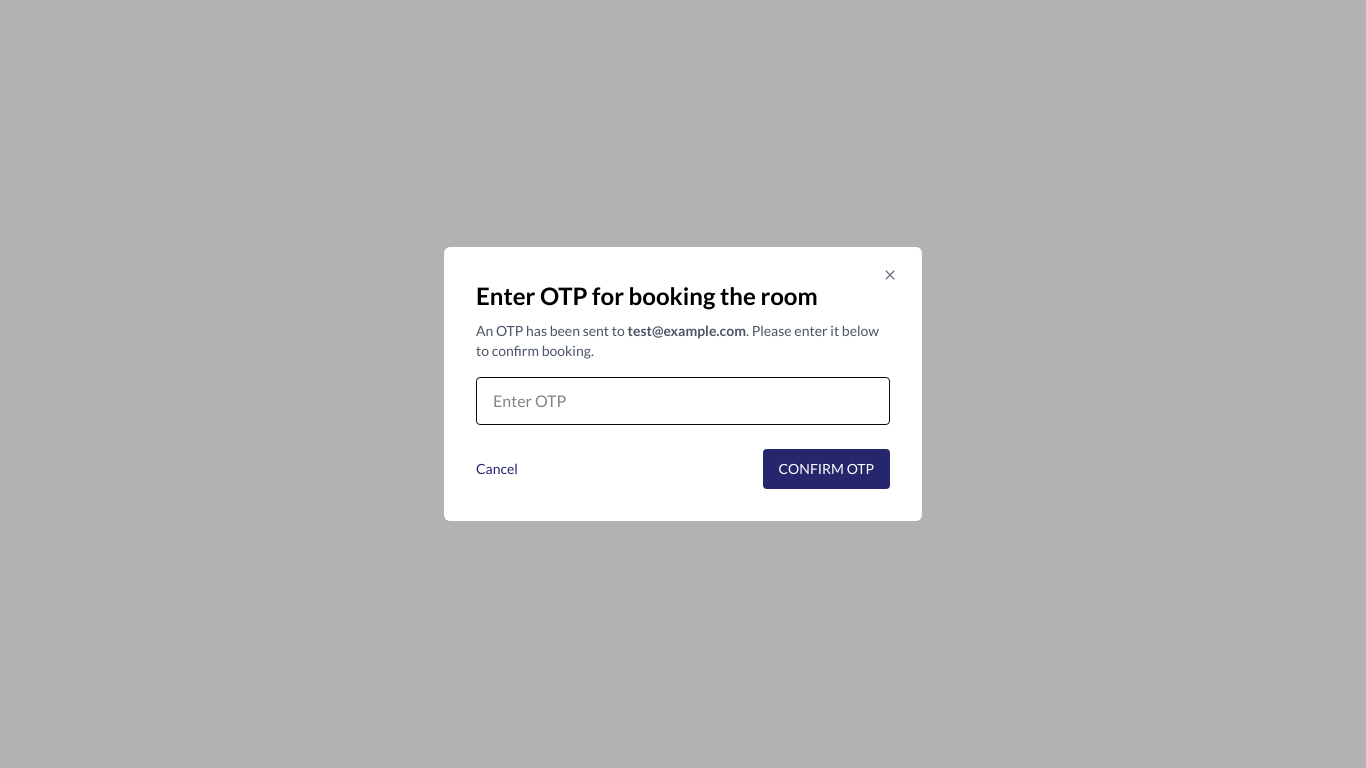
Test case: OTPModal › shows error when trying to confirm without entering OTP
Click the button "CONFIRM OTP" at (826, 469), box [762, 449, 890, 489]
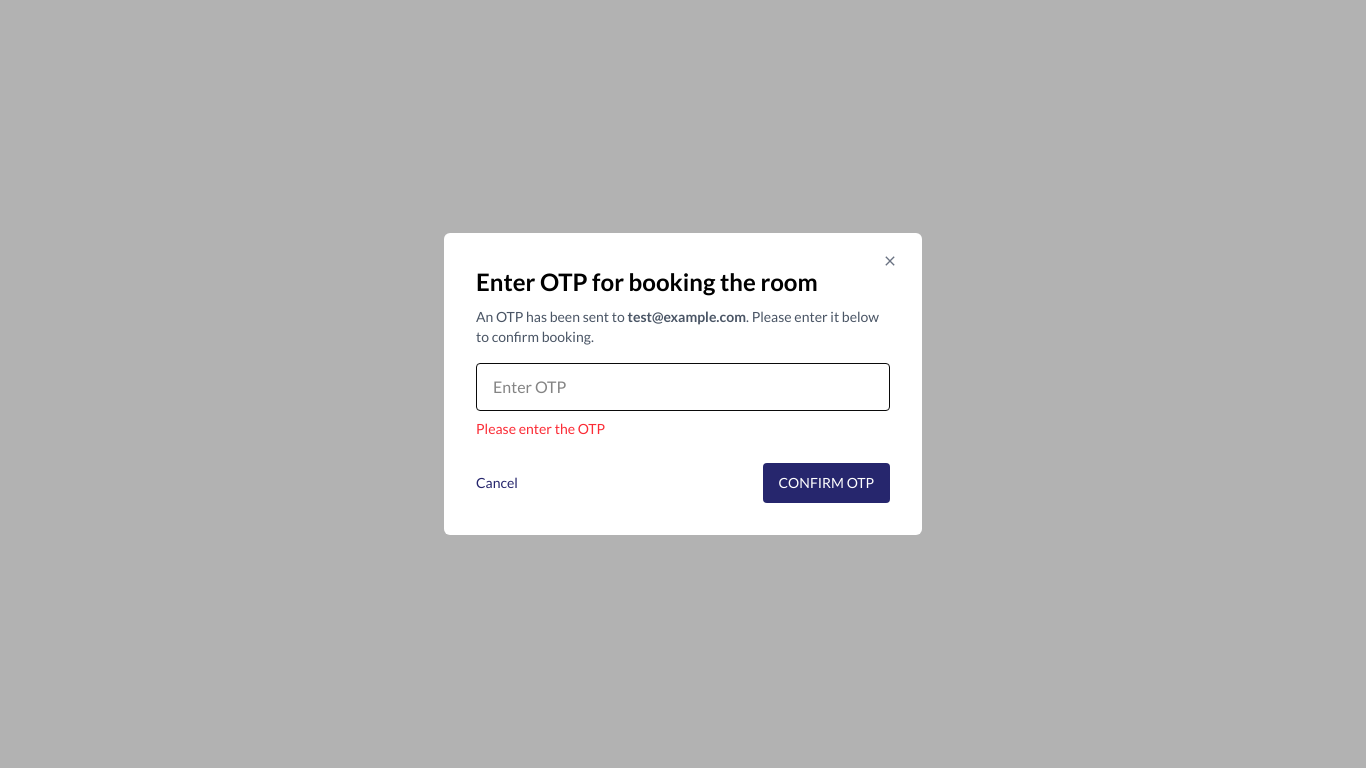
Expected: the text "Please enter the OTP" is shown, [476, 420, 605, 437]
